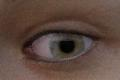eye: (49, 33, 85, 59)
